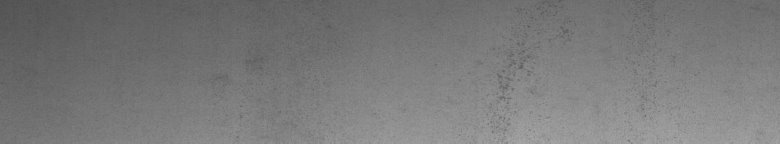ib: (487, 8, 572, 132)
